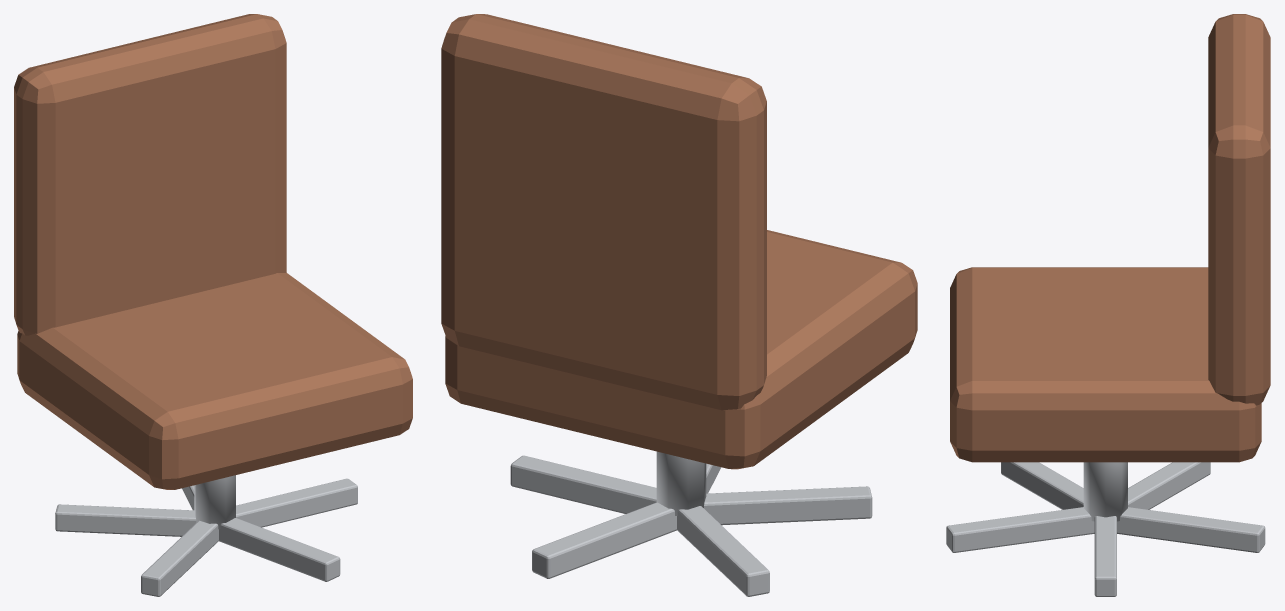
Rendered from LeatherChair.fbx.
3 views of the same model, side by side, from view 1: azimuth 30°, elevation 25°; view 2: azimuth 150°, elevation 25°; view 3: azimuth 270°, elevation 25° (orthographic). The views are drawn at different scales.
Parts seen in each view (by area): view 1: LeatherChair; view 2: LeatherChair; view 3: LeatherChair.
Part boxes in pixels (x1,y1,x2,y2): LeatherChair: (14,14,412,596); LeatherChair: (441,14,917,596); LeatherChair: (946,14,1270,596).
Size of the model in its own units: 72 by 114 by 72.81.
